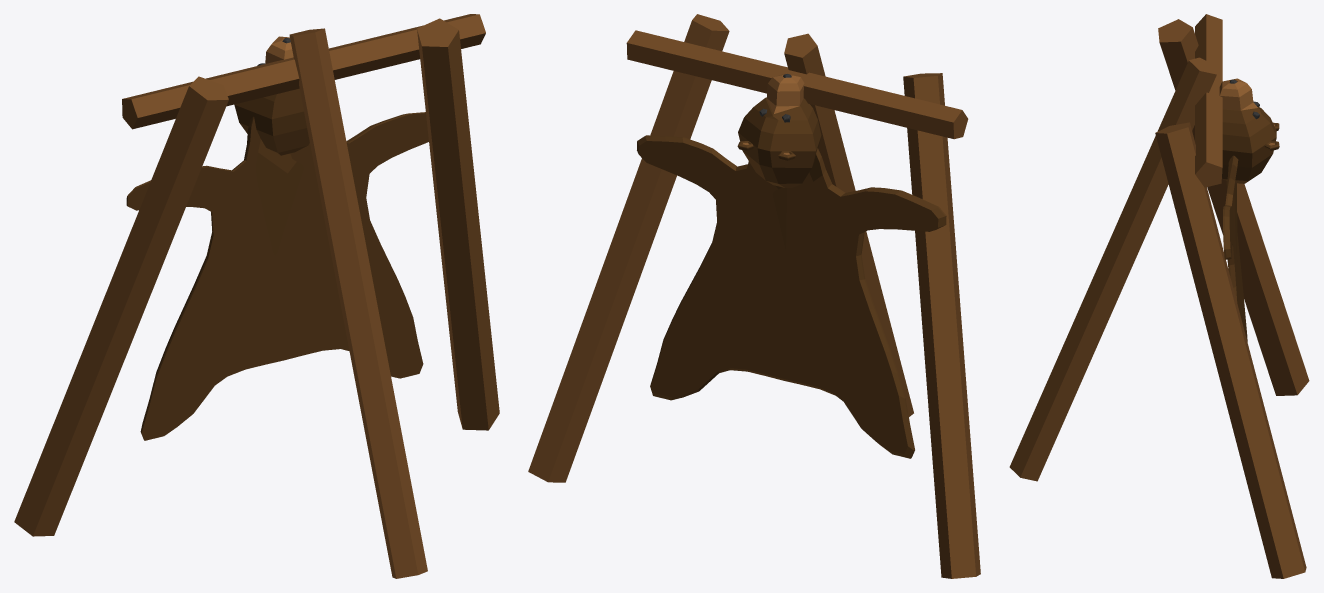
File: G_Stretcher.fbx
The picture shows the model from 3 angles, left to right: view 1: azimuth 30°, elevation 25°; view 2: azimuth 150°, elevation 25°; view 3: azimuth 270°, elevation 25°; orthographic projection. The views are drawn at different scales.
Visible parts, largest first — view 1: G_Stretcher; view 2: G_Stretcher; view 3: G_Stretcher.
Part boxes in pixels (x1,y1,x2,y2): G_Stretcher: [14, 14, 499, 578]; G_Stretcher: [528, 14, 980, 578]; G_Stretcher: [1009, 14, 1309, 578].
Size of the model in its own units: 363 by 354 by 226.
